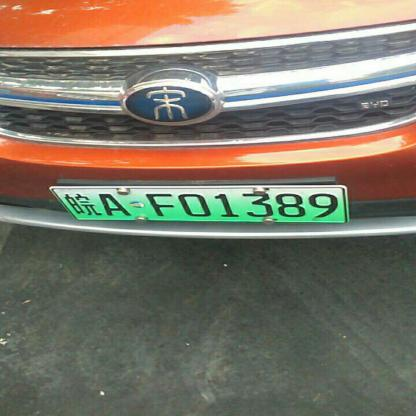lp: (50, 187, 77, 221)
